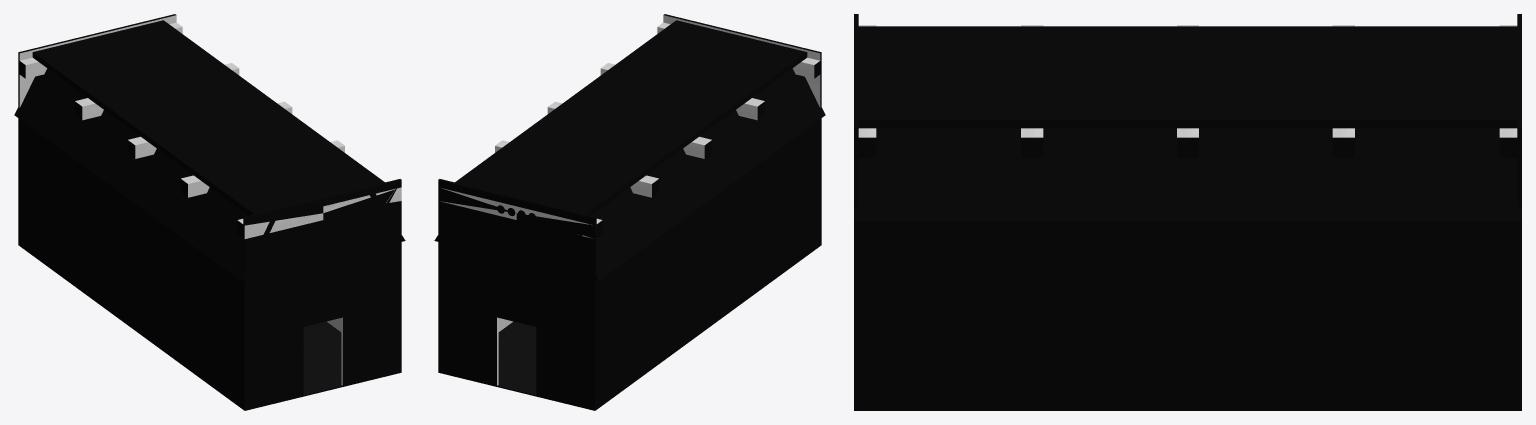
The model's file is Tunnel3.fbx.
The picture shows the model from 3 angles, left to right: view 1: azimuth 30°, elevation 25°; view 2: azimuth 150°, elevation 25°; view 3: azimuth 270°, elevation 25°; orthographic projection. The views are drawn at different scales.
Parts seen in each view (by area): view 1: node_id9 (×3); view 2: node_id9 (×3); view 3: node_id9 (×2).
Part boxes in pixels (box(x1,y1,x2,y2)): node_id9 (×3): box(14, 14, 405, 410); node_id9 (×3): box(434, 14, 825, 410); node_id9 (×2): box(854, 14, 1521, 410).
Bounding box in the file's own units: 0.4579 × 0.512 × 1.09.
4 materials, 3 textured.
